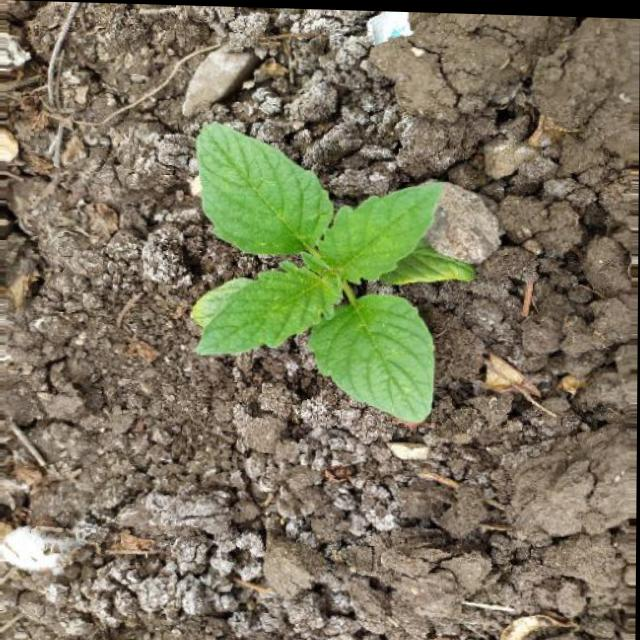crop: (169, 108, 483, 465)
